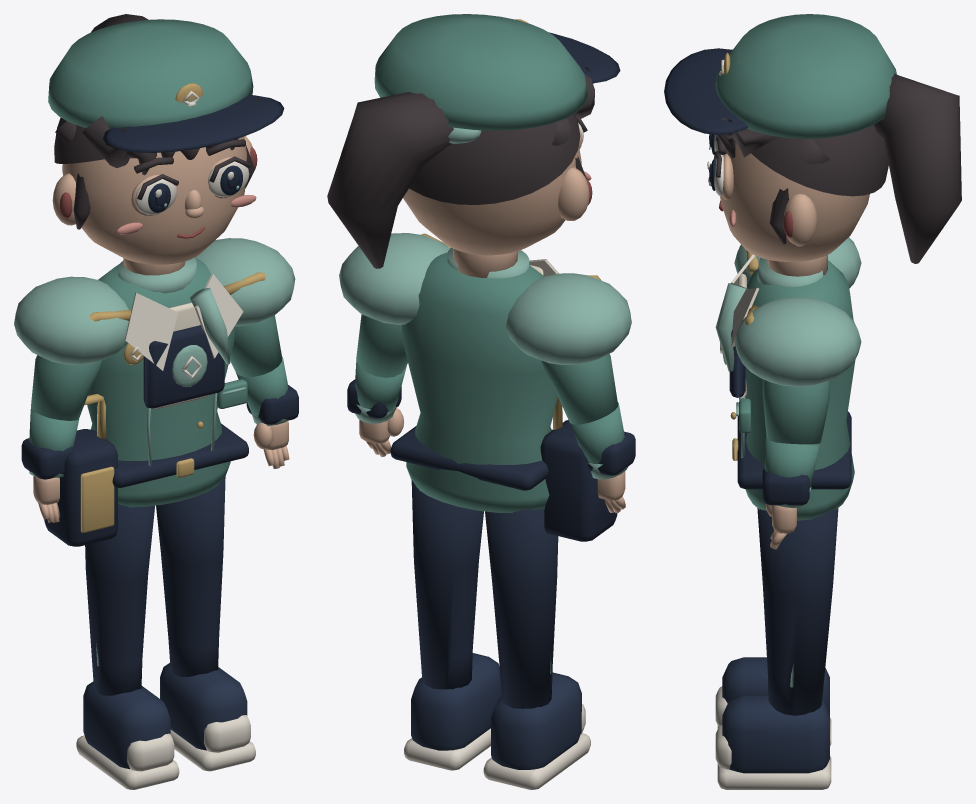
The model's file is npc_mistlake_lieutenant_2.glb.
3 views of the same model, side by side, from view 1: azimuth 30°, elevation 25°; view 2: azimuth 150°, elevation 25°; view 3: azimuth 270°, elevation 25° (orthographic). The views are drawn at different scales.
Visible parts, largest first — view 1: figure.031; view 2: figure.031; view 3: figure.031.
Boxes of the visible parts, left/top/right/bottom form: figure.031: left=14, top=14, right=298, bottom=789; figure.031: left=327, top=14, right=635, bottom=789; figure.031: left=664, top=14, right=961, bottom=789.
Size of the model in its own units: 0.6763 by 1.72 by 0.6429.
